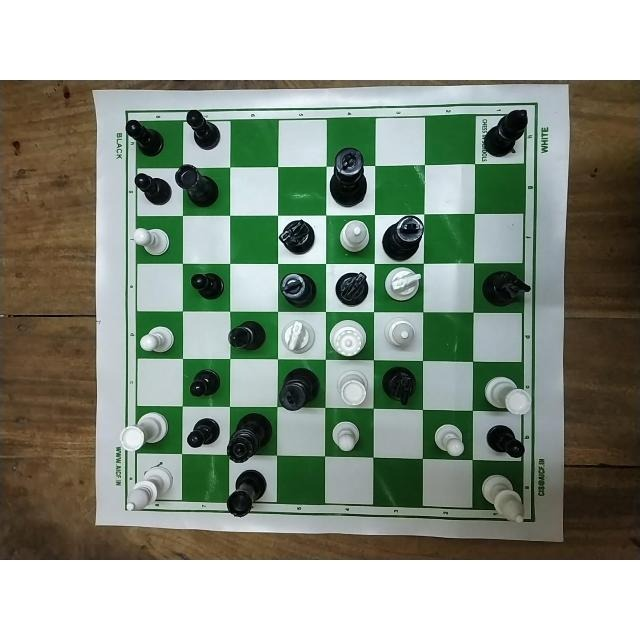black-bishop: (483, 108, 530, 157), (224, 319, 266, 352)
black-king: (328, 145, 366, 207), (382, 215, 423, 262), (279, 367, 319, 411), (280, 270, 316, 307)
black-knight: (482, 268, 532, 304), (380, 365, 418, 405), (277, 218, 316, 255), (331, 269, 369, 305)
black-pawn: (183, 109, 225, 149), (133, 170, 172, 209), (125, 120, 167, 156), (485, 423, 527, 459), (186, 416, 222, 448), (187, 271, 225, 301), (186, 368, 220, 398)
black-queen: (226, 412, 272, 464)
black-rook: (173, 162, 219, 209), (224, 469, 267, 517)
white-bishop: (479, 471, 528, 525), (125, 465, 173, 512), (337, 219, 371, 252), (384, 316, 414, 348)
white-knight: (381, 265, 420, 300), (278, 318, 315, 353)
white-pawn: (429, 422, 463, 458), (131, 224, 170, 255), (138, 325, 173, 355), (329, 420, 359, 452)
white-queen: (326, 320, 368, 358)
white-rook: (484, 374, 534, 416), (118, 411, 170, 450), (335, 369, 369, 408)
